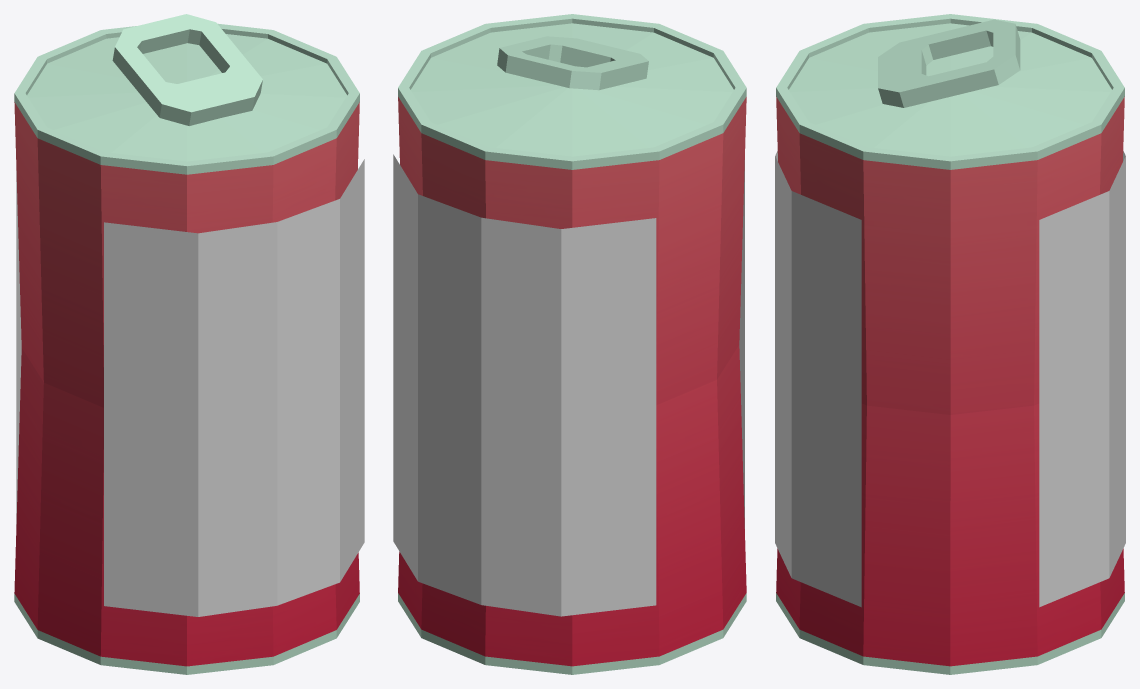
Rendered from sodaCan.fbx.
3 renders of one model, left to right at view 1: azimuth 30°, elevation 25°; view 2: azimuth 150°, elevation 25°; view 3: azimuth 270°, elevation 25°, orthographic.
Visible parts, largest first — view 1: Cube.003; view 2: Cube.003; view 3: Cube.003.
Boxes of the visible parts, x1=… form: Cube.003: x1=14, y1=14, x2=364, y2=674; Cube.003: x1=393, y1=14, x2=746, y2=674; Cube.003: x1=775, y1=14, x2=1125, y2=674.
Bounding box in the file's own units: 676 × 1208 × 680.
